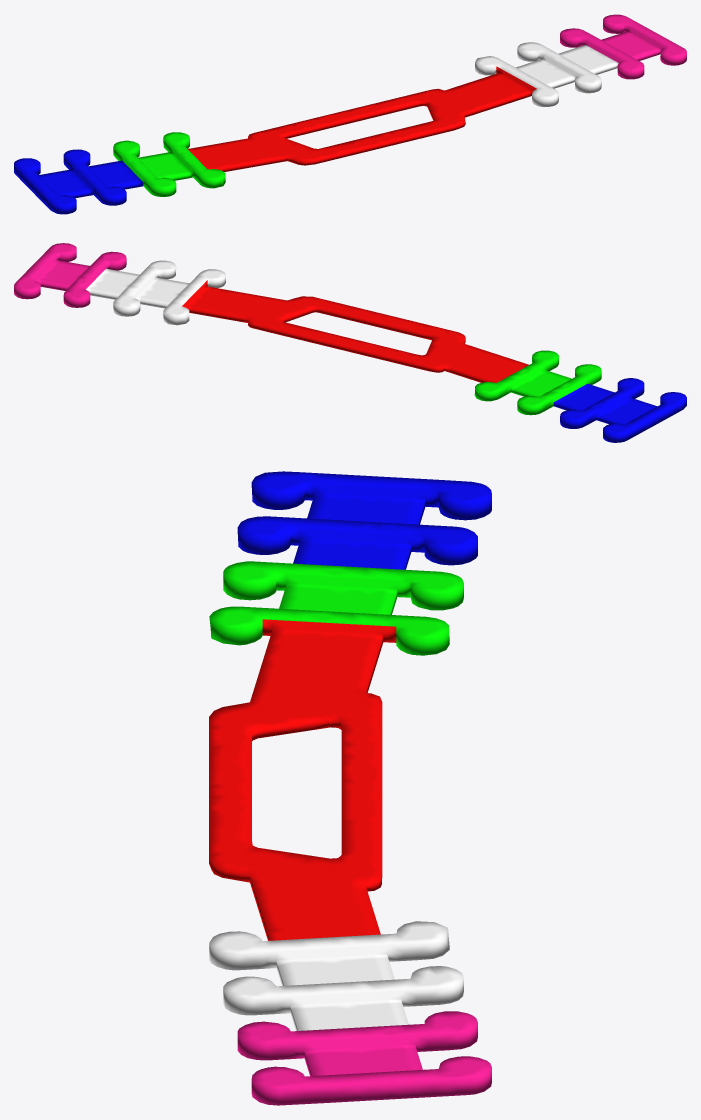
File: model_5653_segmented.obj
3 views of the same model, one above another, from view 1: azimuth 30°, elevation 25°; view 2: azimuth 150°, elevation 25°; view 3: azimuth 270°, elevation 25° (orthographic). The views are drawn at different scales.
Size of the model in its own units: 163 by 2.02 by 31.54.
